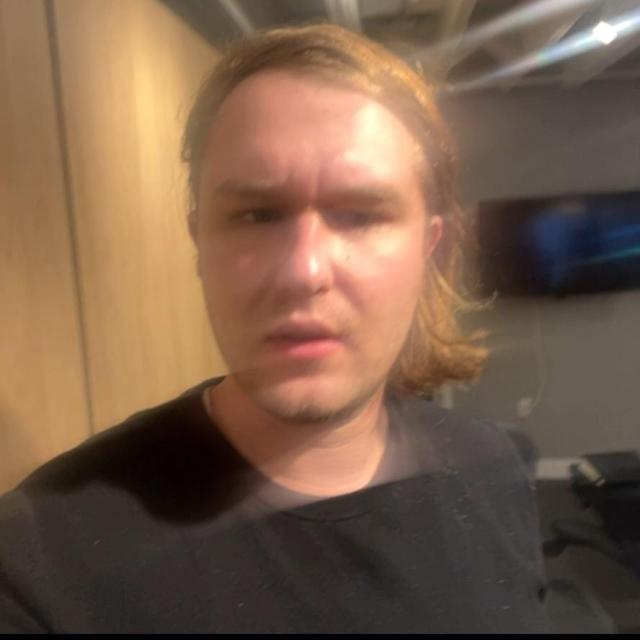no-helmet: (184, 9, 476, 461)
